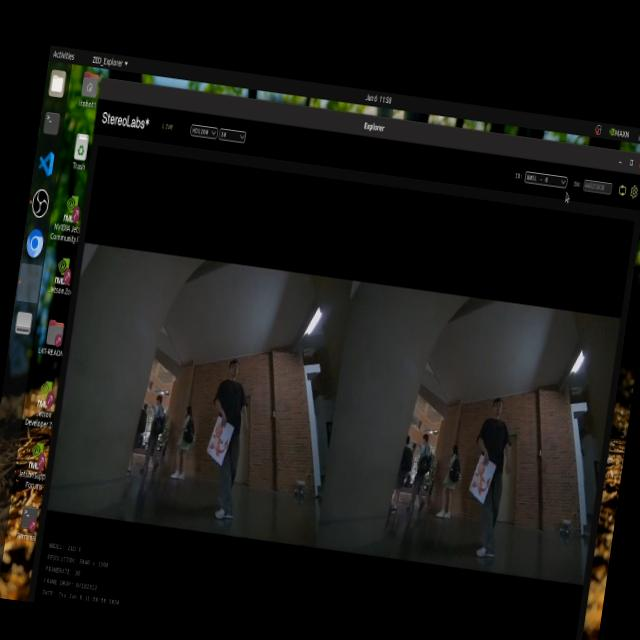red: (466, 456, 499, 513), (210, 418, 236, 476)
